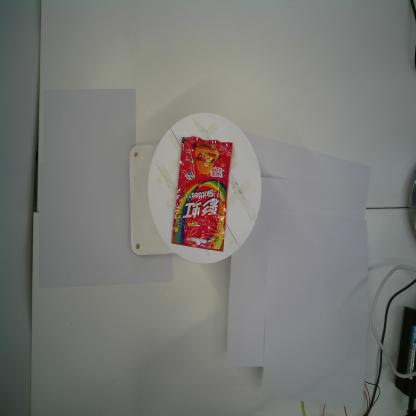Candy: (169, 135, 234, 254)
